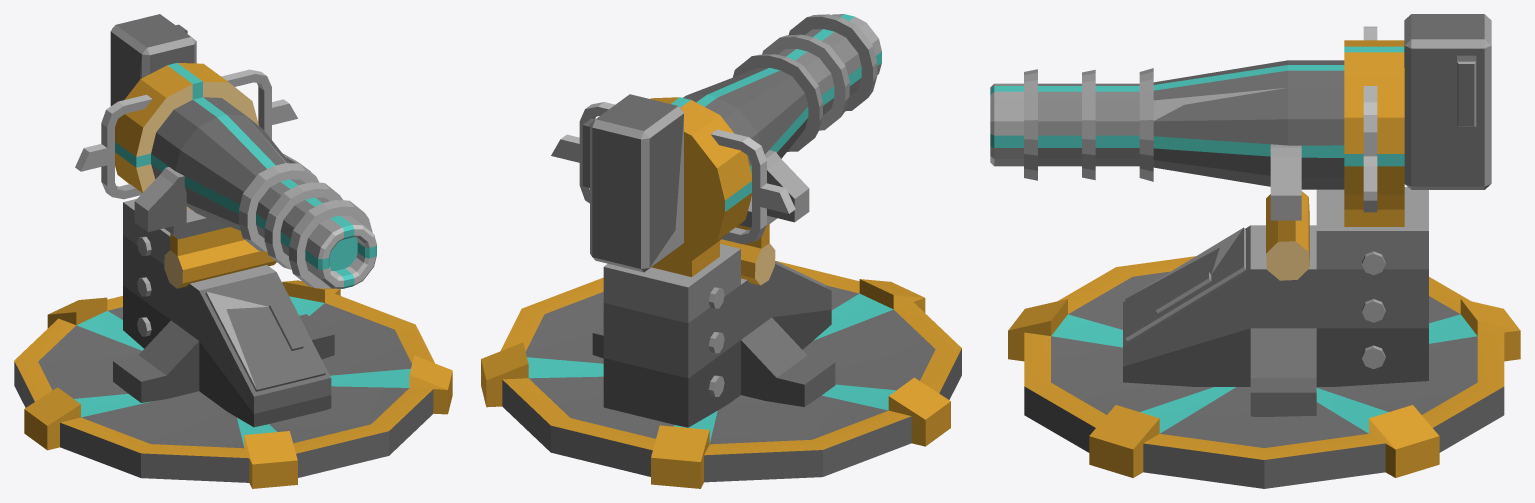
Rendered from tower_laser_yellow_2.fbx.
The picture shows the model from 3 angles, left to right: view 1: azimuth 30°, elevation 25°; view 2: azimuth 150°, elevation 25°; view 3: azimuth 270°, elevation 25°; orthographic projection. The views are drawn at different scales.
Parts seen in each view (by area): view 1: top_laser_yellow_2, tower_laser_yellow_2; view 2: top_laser_yellow_2, tower_laser_yellow_2; view 3: top_laser_yellow_2, tower_laser_yellow_2.
Part boxes in pixels (box(x1,y1,x2,y2)): top_laser_yellow_2: box(75, 14, 376, 427); tower_laser_yellow_2: box(14, 280, 452, 488); top_laser_yellow_2: box(551, 14, 881, 427); tower_laser_yellow_2: box(481, 261, 961, 488); top_laser_yellow_2: box(990, 14, 1491, 416); tower_laser_yellow_2: box(1008, 256, 1520, 488).
Bounding box in the file's own units: 147 × 113 × 152.
